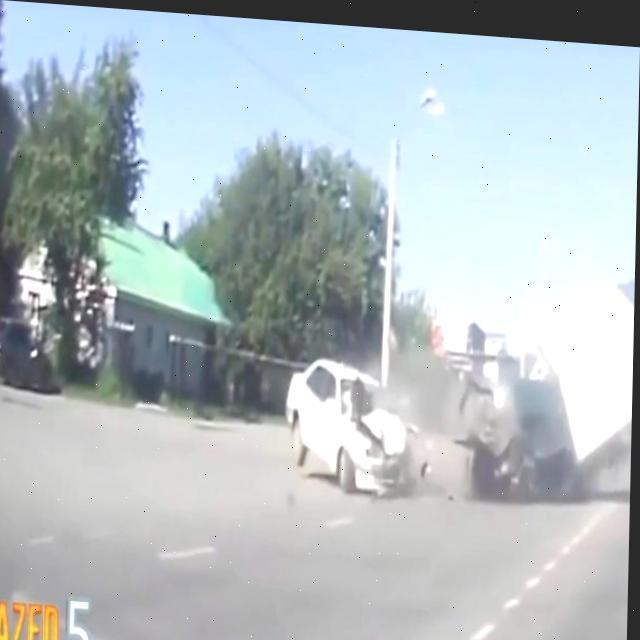multiple_accident: (262, 295, 640, 525)
